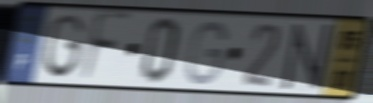0: (138, 15, 183, 87)
2: (239, 21, 282, 90)
F: (76, 9, 134, 87)
G: (40, 12, 88, 81), (183, 18, 230, 88)
N: (280, 22, 335, 93)
